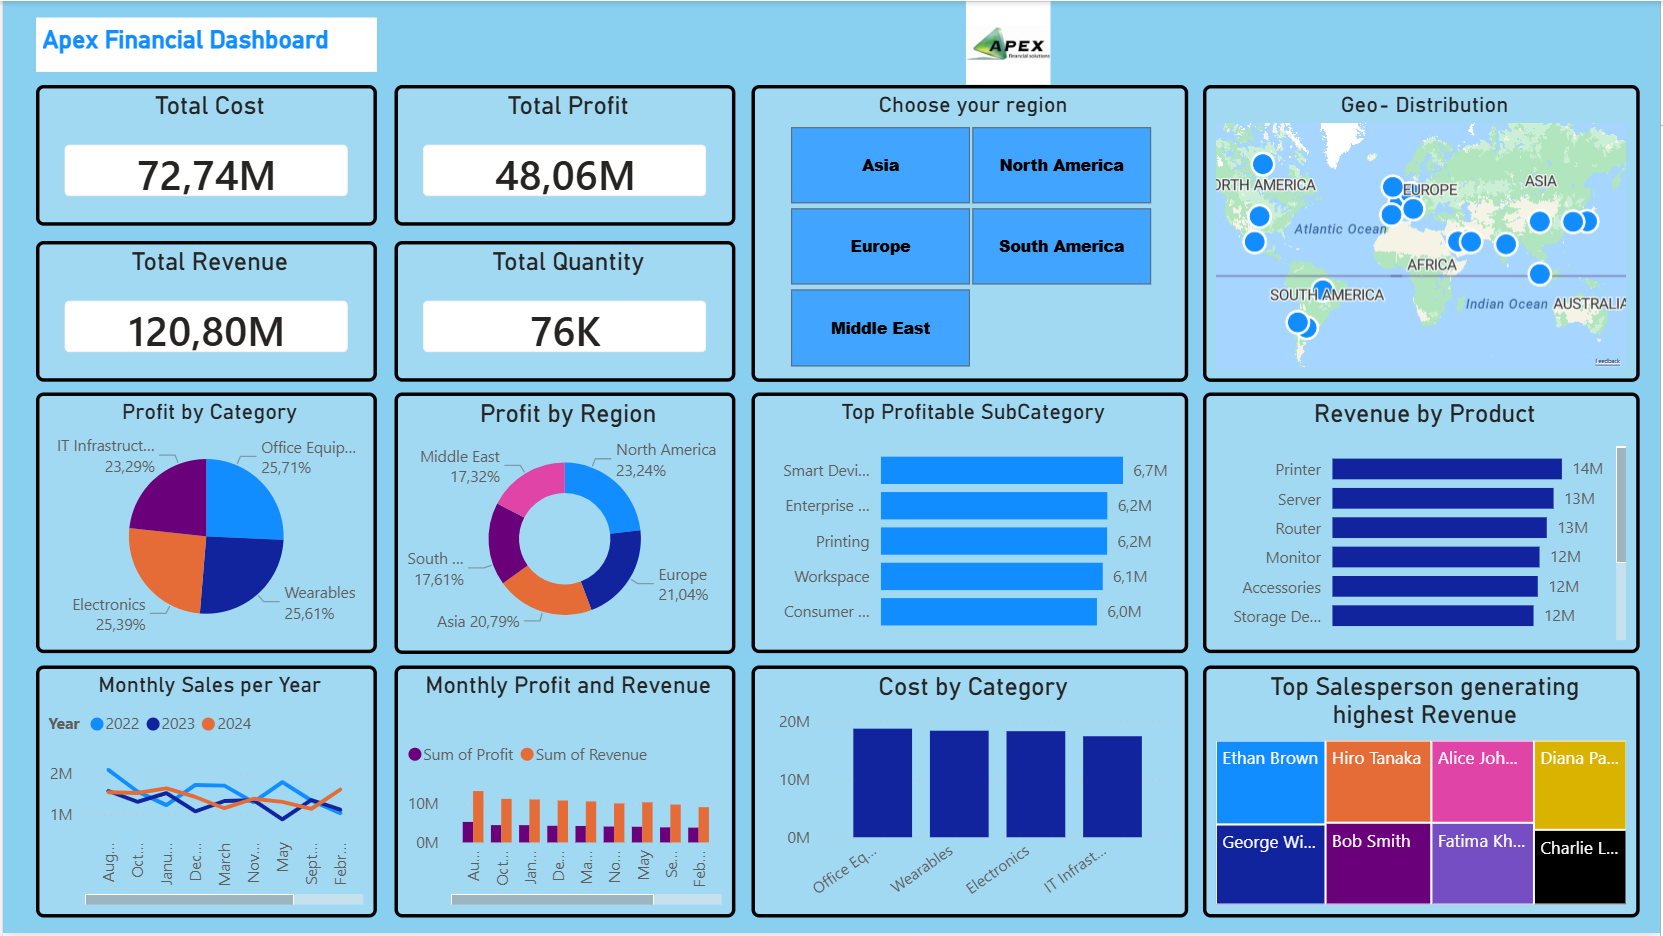

Layout of this report page (visuals, bound fields, positions):
{"tool":"powerbi","page":{"name":"Page 1","canvas":[1280,720],"ordinal":0},"visuals":[{"type":"cardVisual","title":"Total Cost","fields":{"Data":["FinanceData.Cost"]},"box":[25.5,64.9,263,108.9],"z":0},{"type":"lineChart","title":"Monthly Sales per Year","fields":{"Series":["FinanceData.Year"],"Category":["FinanceData.Month"],"Y":["FinanceData.Profit"]},"box":[25.5,513.3,263,194.7],"z":1000},{"type":"textbox","box":[25.5,12.7,263,41.7],"z":2000},{"type":"cardVisual","title":"Total Profit","fields":{"Data":["FinanceData.Profit"]},"box":[302.4,64.9,263,108.9],"z":3000},{"type":"cardVisual","title":"Total Revenue","fields":{"Data":["FinanceData.Revenue"]},"box":[25.5,185.4,263,108.9],"z":4000},{"type":"cardVisual","title":"Total Quantity","fields":{"Data":["FinanceData.Quantity"]},"box":[302.4,185.4,263,108.9],"z":5000},{"type":"pieChart","title":"Profit by Category","fields":{"Category":["FinanceData.Category"],"Y":["FinanceData.Profit"]},"box":[25.5,302.4,263,201.6],"z":6000},{"type":"clusteredBarChart","title":"Top Profitable SubCategory","fields":{"Category":["FinanceData.SubCategory"],"Y":["FinanceData.Profit"]},"box":[578.2,302.4,337.2,201.6],"z":7000},{"type":"azureMap","title":"Geo- Distribution","fields":{"Category":["FinanceData.Country"]},"box":[927,64.9,337.2,229.4],"z":8000},{"type":"treemap","title":"Top Salesperson generating highest Revenue","fields":{"Values":["FinanceData.Revenue"],"Group":["FinanceData.Salesperson"]},"box":[927,513.3,337.2,194.7],"z":9000},{"type":"slicer","title":"Choose your region","fields":{"Values":["FinanceData.Region"]},"box":[578.2,64.9,337.2,229.4],"z":10000},{"type":"clusteredColumnChart","title":"Monthly Profit and Revenue ","fields":{"Y":["FinanceData.Profit","FinanceData.Revenue"],"Category":["FinanceData.Month"]},"box":[302.4,513.3,263,194.7],"z":11000},{"type":"clusteredBarChart","title":"Revenue by Product","fields":{"Category":["FinanceData.Product"],"Y":["FinanceData.Revenue"]},"box":[927,302.4,337.2,201.6],"z":12000},{"type":"columnChart","title":"Cost by Category","fields":{"Category":["FinanceData.Category"],"Y":["FinanceData.Cost"]},"box":[578.2,513.3,337.2,194.7],"z":13000},{"type":"donutChart","title":"Profit by Region","fields":{"Y":["FinanceData.Profit"],"Category":["FinanceData.Region"]},"box":[302,302,263,202],"z":14000},{"type":"image","box":[288.5,0,975.7,64.9],"z":14001}]}

Visuals, with their boxes in screenshot pixels (x1, y1, x2, y2), scaled from the page's 1280x720 canvas onto the 1663x936 screenshot:
"Total Cost" cardVisual: 33, 84, 375, 226
"Monthly Sales per Year" lineChart: 33, 667, 375, 920
textbox: 33, 17, 375, 71
"Total Profit" cardVisual: 393, 84, 735, 226
"Total Revenue" cardVisual: 33, 241, 375, 383
"Total Quantity" cardVisual: 393, 241, 735, 383
"Profit by Category" pieChart: 33, 393, 375, 655
"Top Profitable SubCategory" clusteredBarChart: 751, 393, 1189, 655
"Geo- Distribution" azureMap: 1204, 84, 1642, 383
"Top Salesperson generating highest Revenue" treemap: 1204, 667, 1642, 920
"Choose your region" slicer: 751, 84, 1189, 383
"Monthly Profit and Revenue " clusteredColumnChart: 393, 667, 735, 920
"Revenue by Product" clusteredBarChart: 1204, 393, 1642, 655
"Cost by Category" columnChart: 751, 667, 1189, 920
"Profit by Region" donutChart: 392, 393, 734, 655
image: 375, 0, 1642, 84
